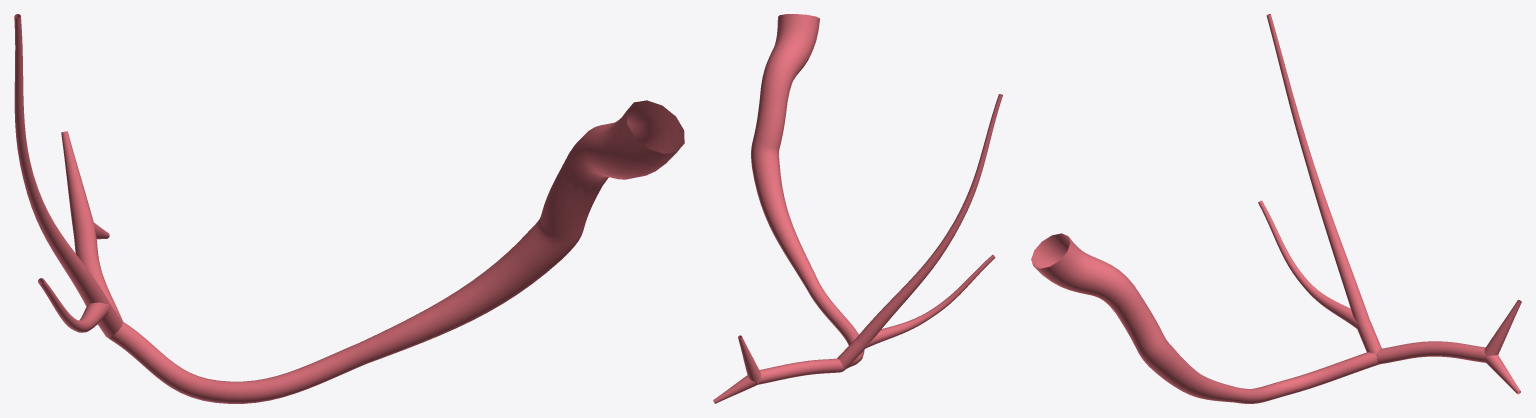
3 renders of one model, left to right at view 1: azimuth 30°, elevation 25°; view 2: azimuth 150°, elevation 25°; view 3: azimuth 270°, elevation 25°, orthographic. The views are drawn at different scales.
Visible parts, largest first — view 1: ZA_07aa923f980626c0; view 2: ZA_07aa923f980626c0; view 3: ZA_07aa923f980626c0.
Boxes of the visible parts, bbox=[...] form: ZA_07aa923f980626c0: bbox=[14, 14, 684, 403]; ZA_07aa923f980626c0: bbox=[713, 14, 1002, 403]; ZA_07aa923f980626c0: bbox=[1031, 14, 1521, 403].
Size of the model in its own units: 0.0523 by 0.0442 by 0.0637.
